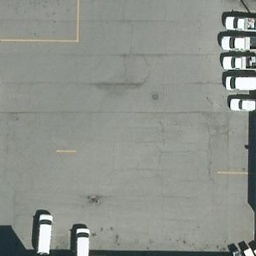car: (32, 214, 52, 255), (222, 33, 256, 52), (222, 74, 256, 93), (222, 53, 256, 72), (222, 15, 256, 34), (72, 225, 91, 256), (230, 95, 256, 112), (228, 93, 254, 110)
